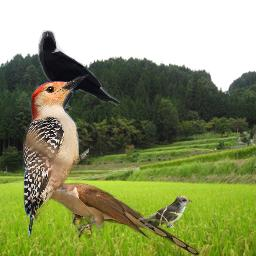Crow: (37, 30, 120, 113)
Cuckoo: (30, 180, 201, 256), (138, 195, 192, 228)
Woodpecker: (23, 73, 89, 237)
